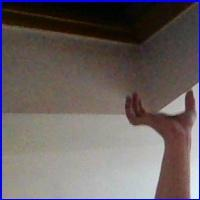space: (118, 88, 198, 144)
